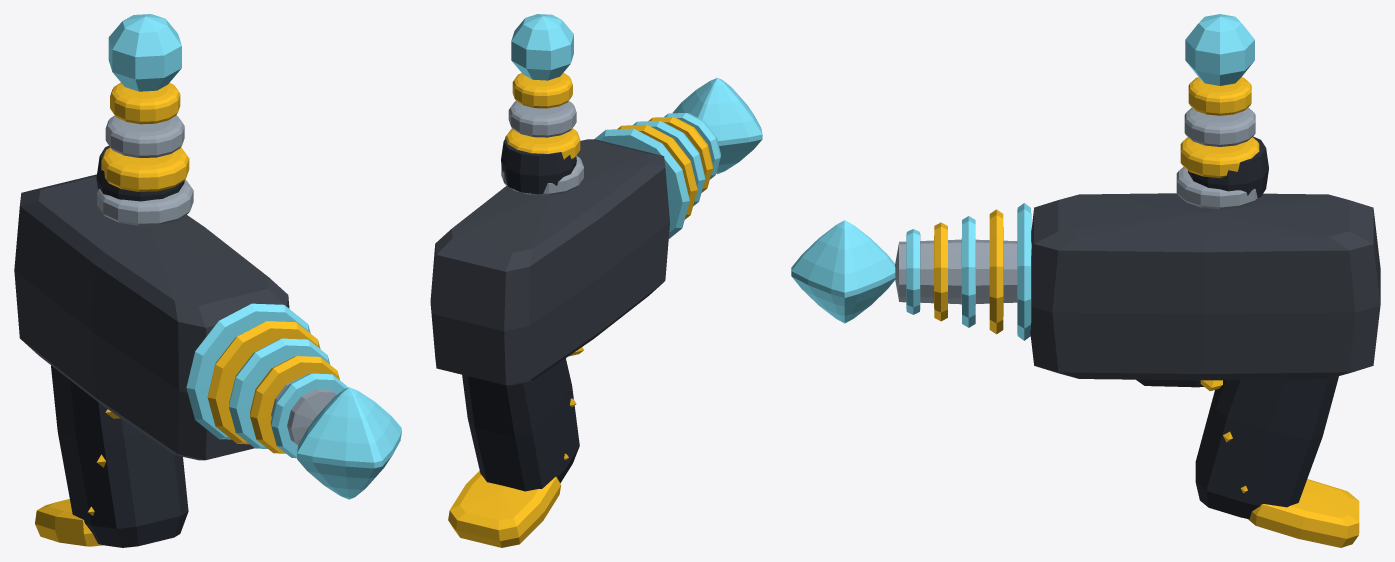
File: g-energy-3.glb
The picture shows the model from 3 angles, left to right: view 1: azimuth 30°, elevation 25°; view 2: azimuth 150°, elevation 25°; view 3: azimuth 270°, elevation 25°; orthographic projection. The views are drawn at different scales.
Visible parts, largest first — view 1: gun; view 2: gun; view 3: gun.
Part boxes in pixels (box(x1,y1,x2,y2)): gun: box(14, 14, 401, 547); gun: box(430, 14, 762, 547); gun: box(791, 14, 1380, 547).
Size of the model in its own units: 0.17 by 0.6986 by 0.7218.
